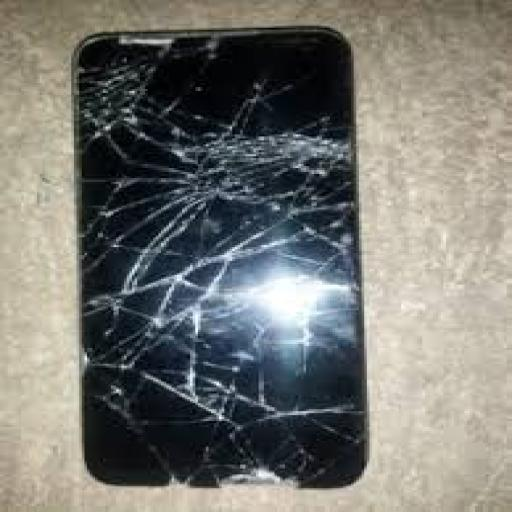phone: (68, 28, 372, 509)
